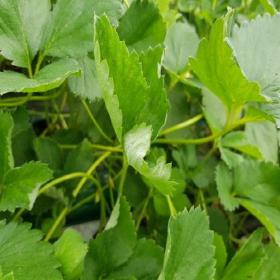Powdery Mildew Leaf: (93, 12, 150, 157), (125, 122, 181, 197), (87, 194, 138, 274), (0, 160, 55, 214)
